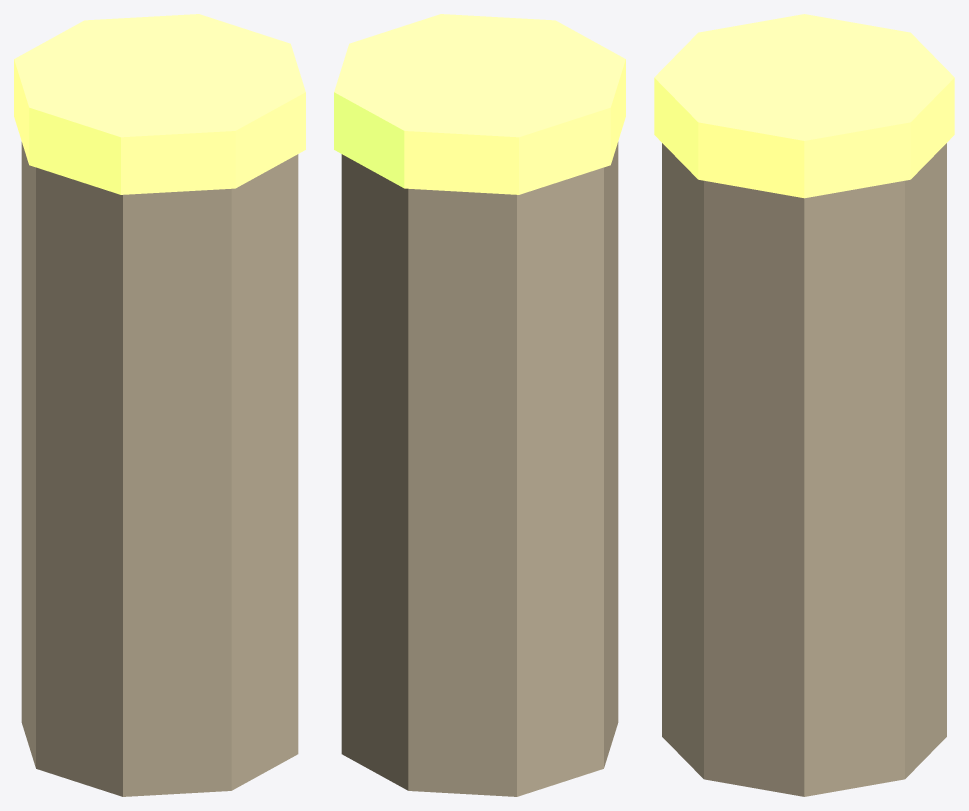
Rendered from street_016_seed11.glb.
3 views of the same model, side by side, from view 1: azimuth 30°, elevation 25°; view 2: azimuth 150°, elevation 25°; view 3: azimuth 270°, elevation 25° (orthographic).
Visible parts, largest first — view 1: street_016_seed11; view 2: street_016_seed11; view 3: street_016_seed11.
Part boxes in pixels (bbox=[...]): street_016_seed11: bbox=[14, 14, 305, 796]; street_016_seed11: bbox=[334, 14, 625, 796]; street_016_seed11: bbox=[654, 14, 954, 796].
Bounding box in the file's own units: 0.38 × 0.92 × 0.38.
